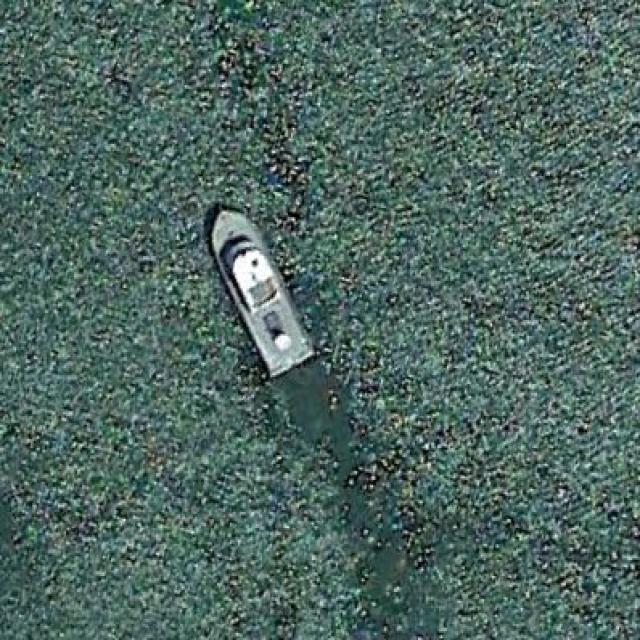boat: (204, 201, 317, 380)
